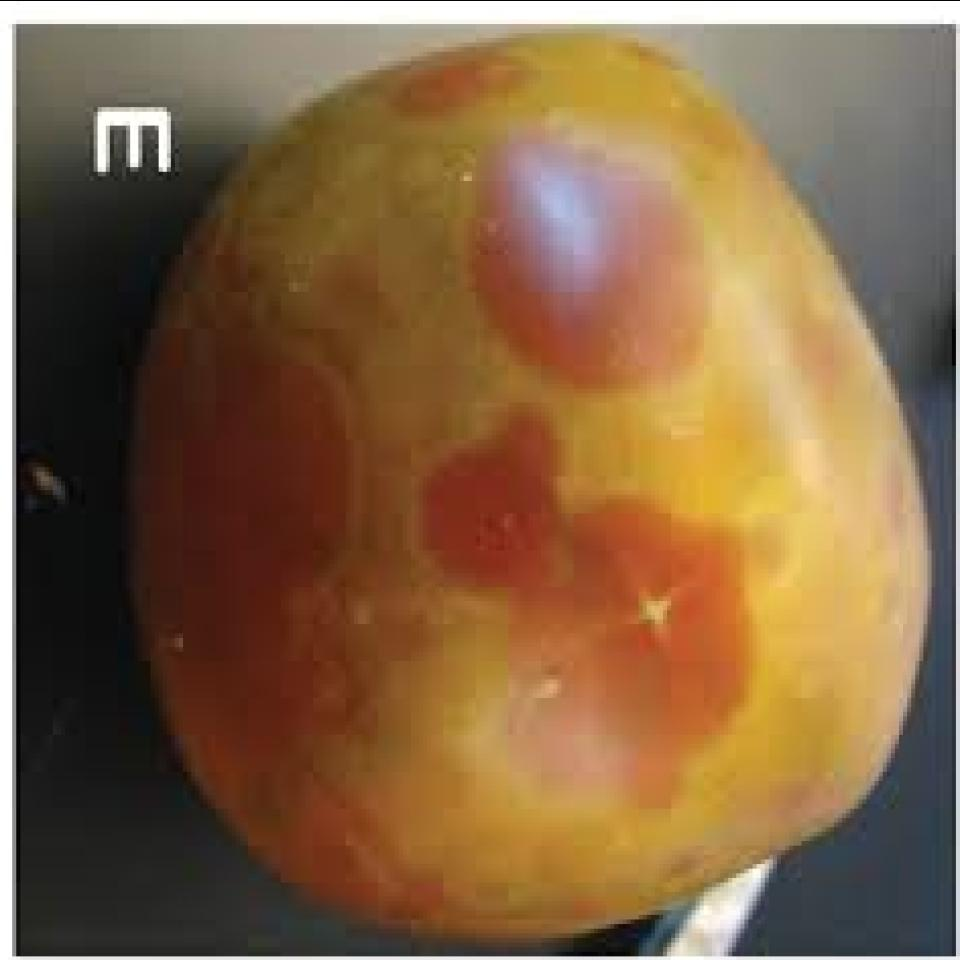Spotted wilt Virus: (130, 37, 932, 942)
